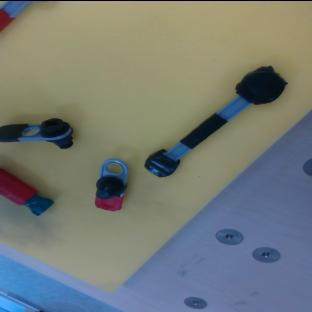part_1_bad: (0, 117, 72, 148)
part_1_good: (90, 154, 133, 213)
part_2_good: (0, 168, 54, 219)
part_3_bad: (135, 57, 290, 184)
